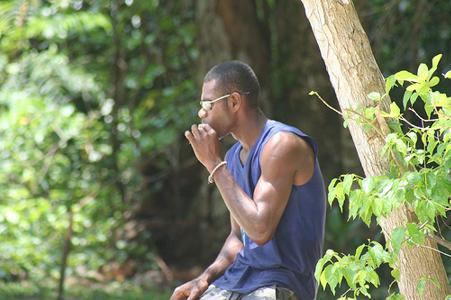person: (167, 62, 328, 300)
